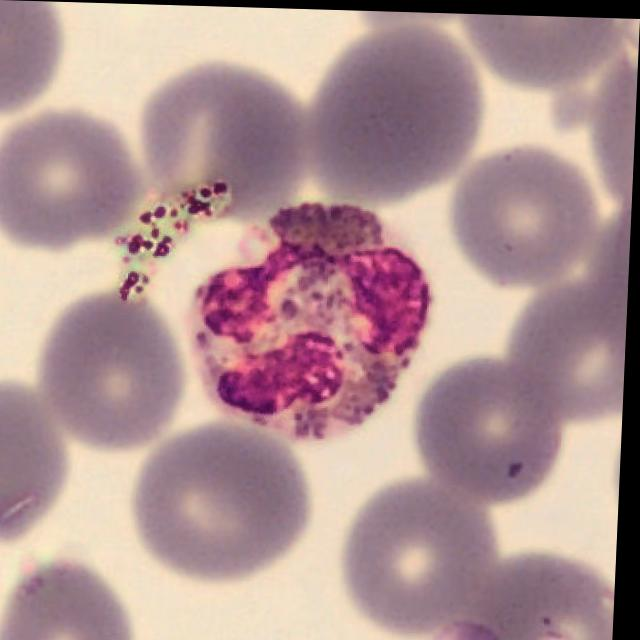Eosinofilo: (186, 202, 434, 439)
